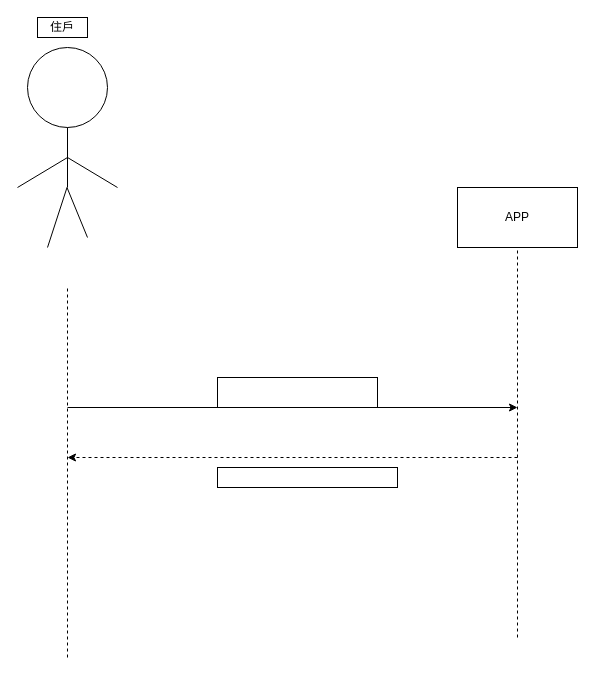
The diagram is 595 pixels wide and 676 high, and some of its shapes have lost their labels. Here are the shapes that lost their labels. From the top down, the centre of each, then its label:
the point at 297,392: Signforthepackage()
the point at 307,477: Sign for the package
